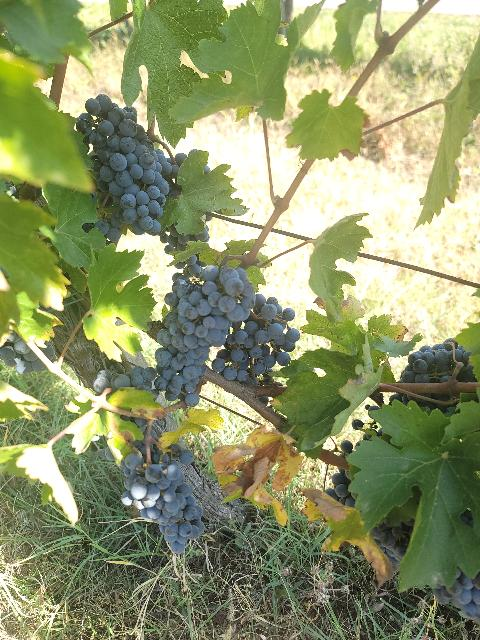grapes: (154, 265, 256, 406), (76, 94, 170, 235), (121, 444, 205, 554), (211, 294, 300, 385), (400, 339, 476, 384)
